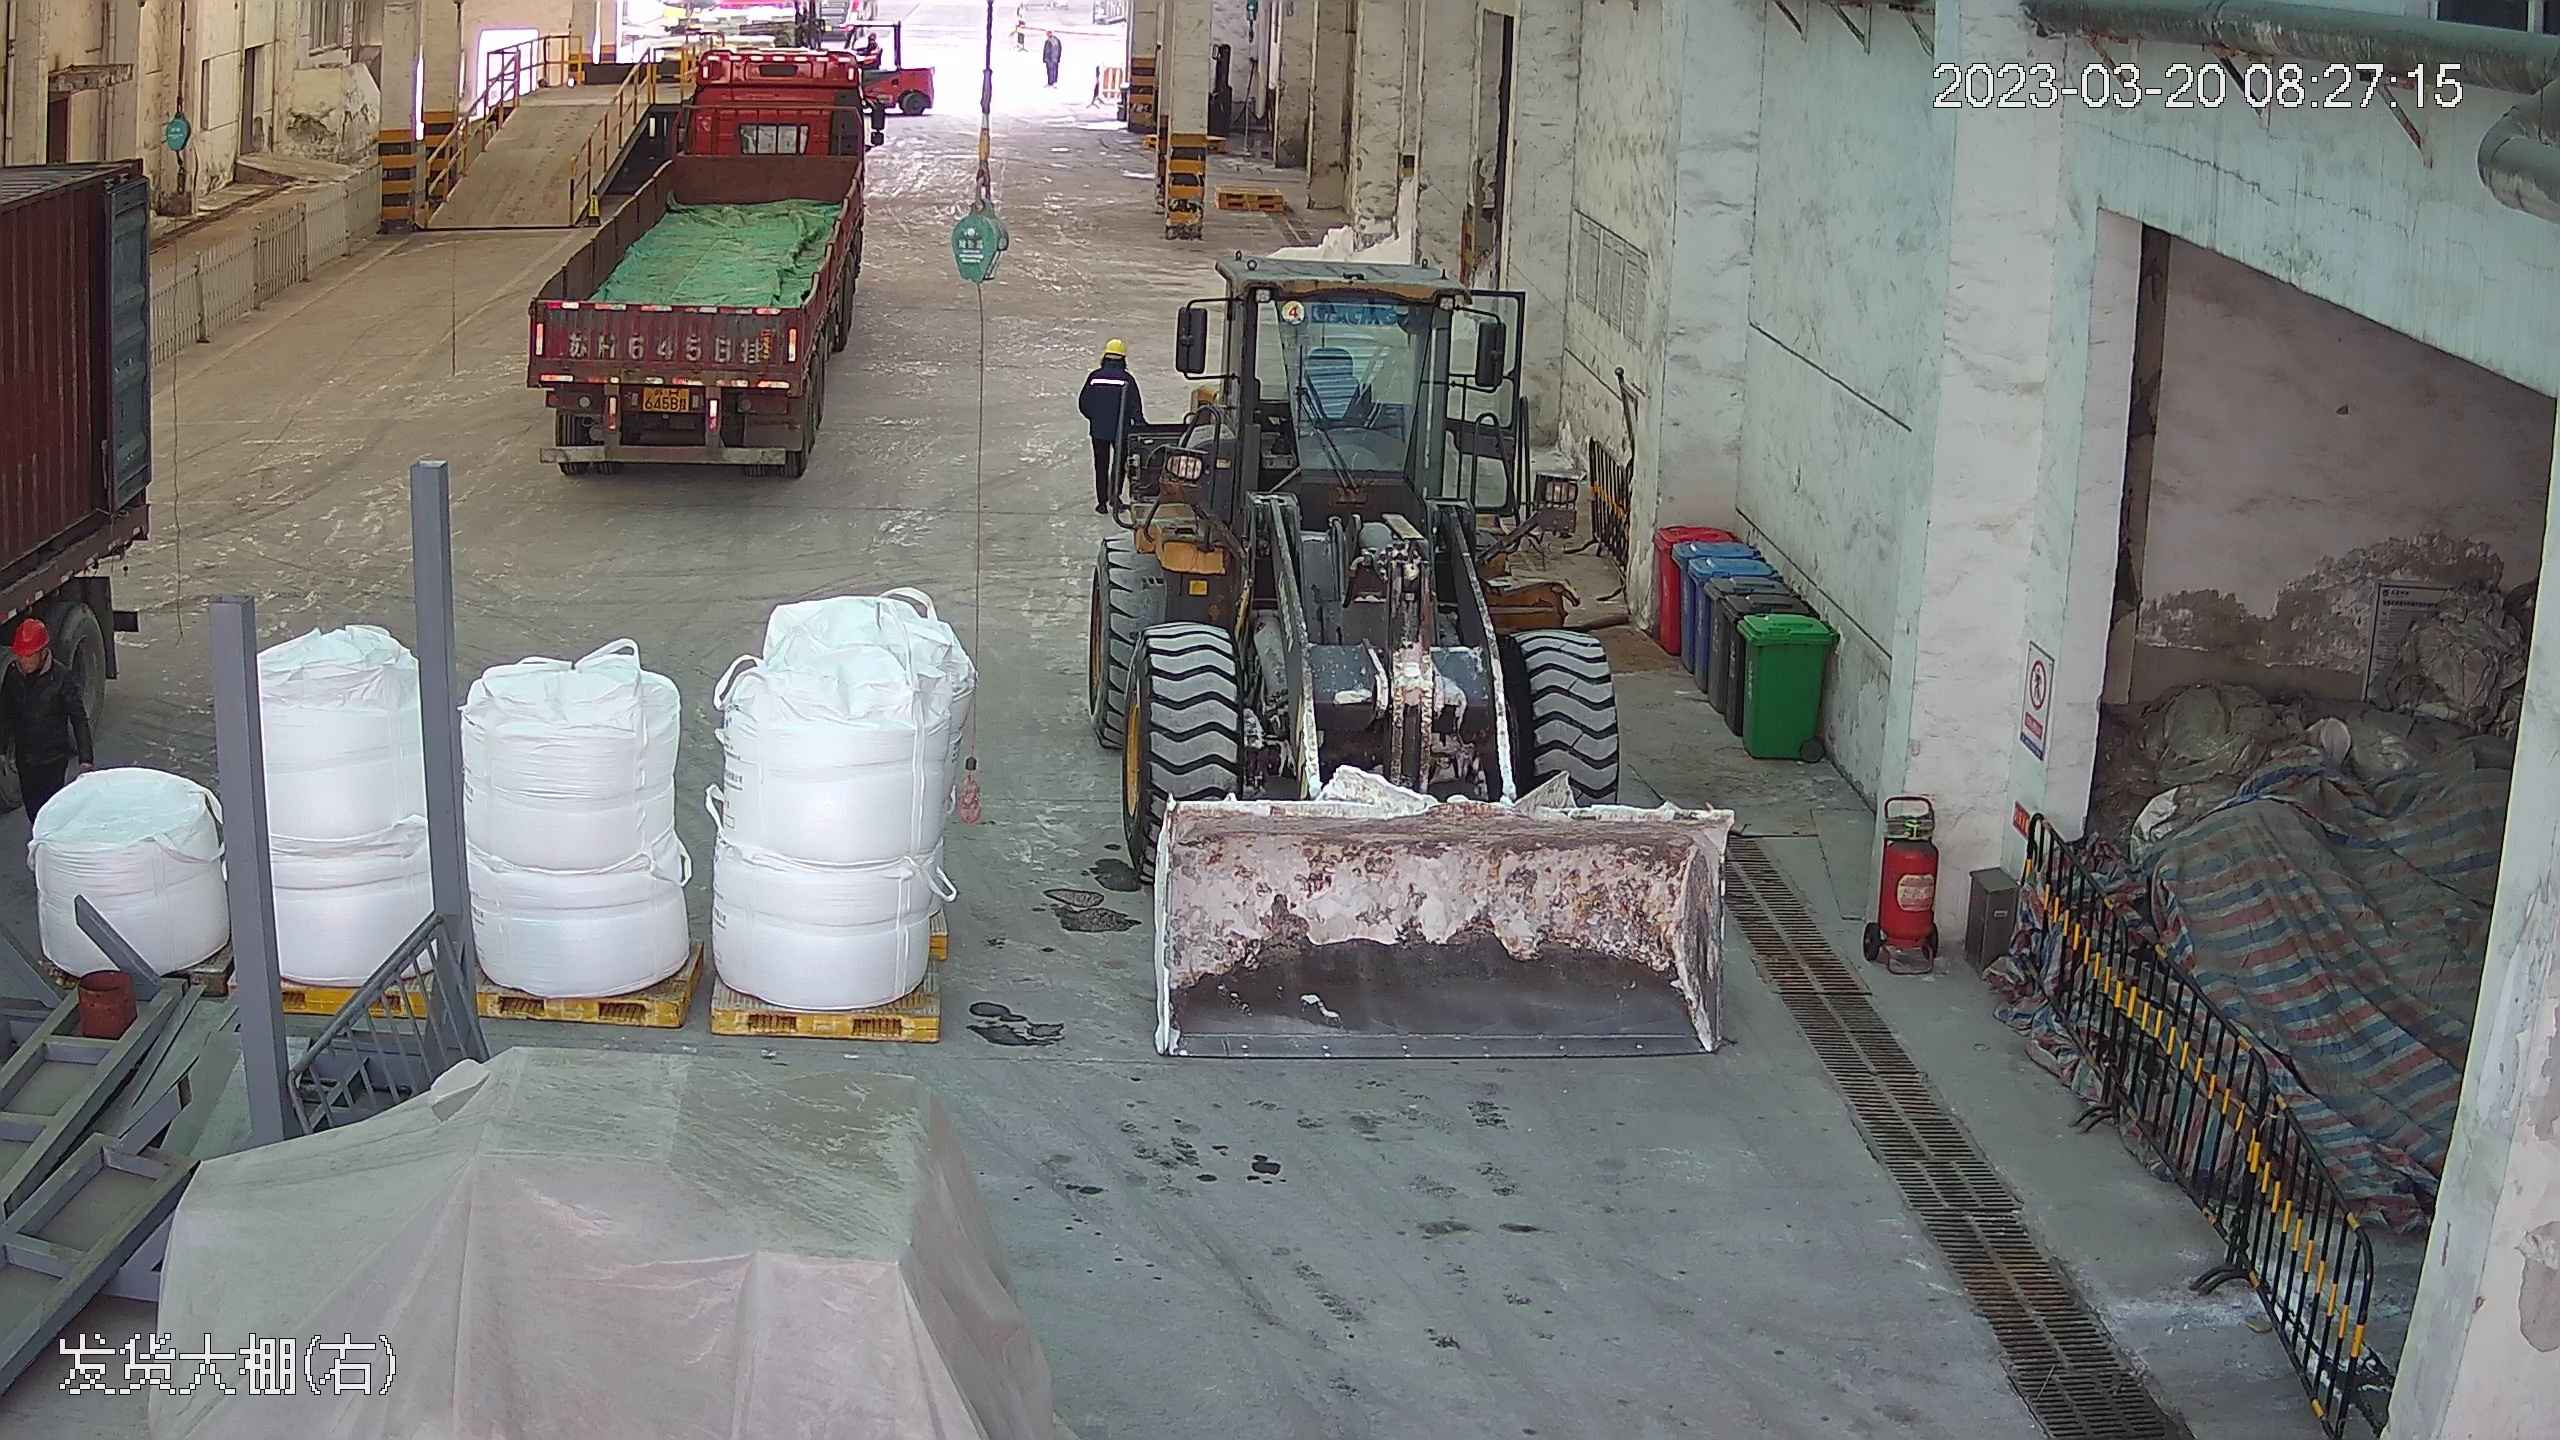head: (1, 616, 69, 707), (1079, 335, 1140, 390)
helmet: (5, 615, 50, 657), (1099, 337, 1129, 357)
people: (1, 614, 96, 821), (1076, 333, 1150, 520), (1038, 21, 1067, 91)
truck: (514, 25, 877, 485), (3, 25, 179, 749)
